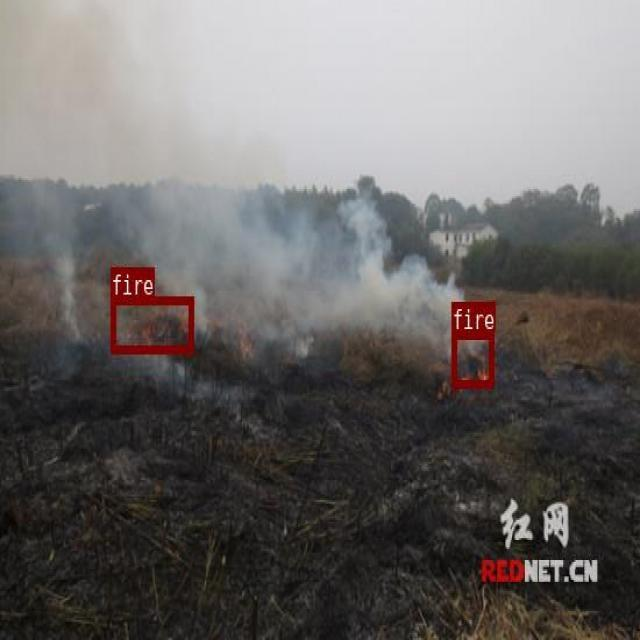fire: (110, 295, 193, 351), (451, 330, 493, 387)
